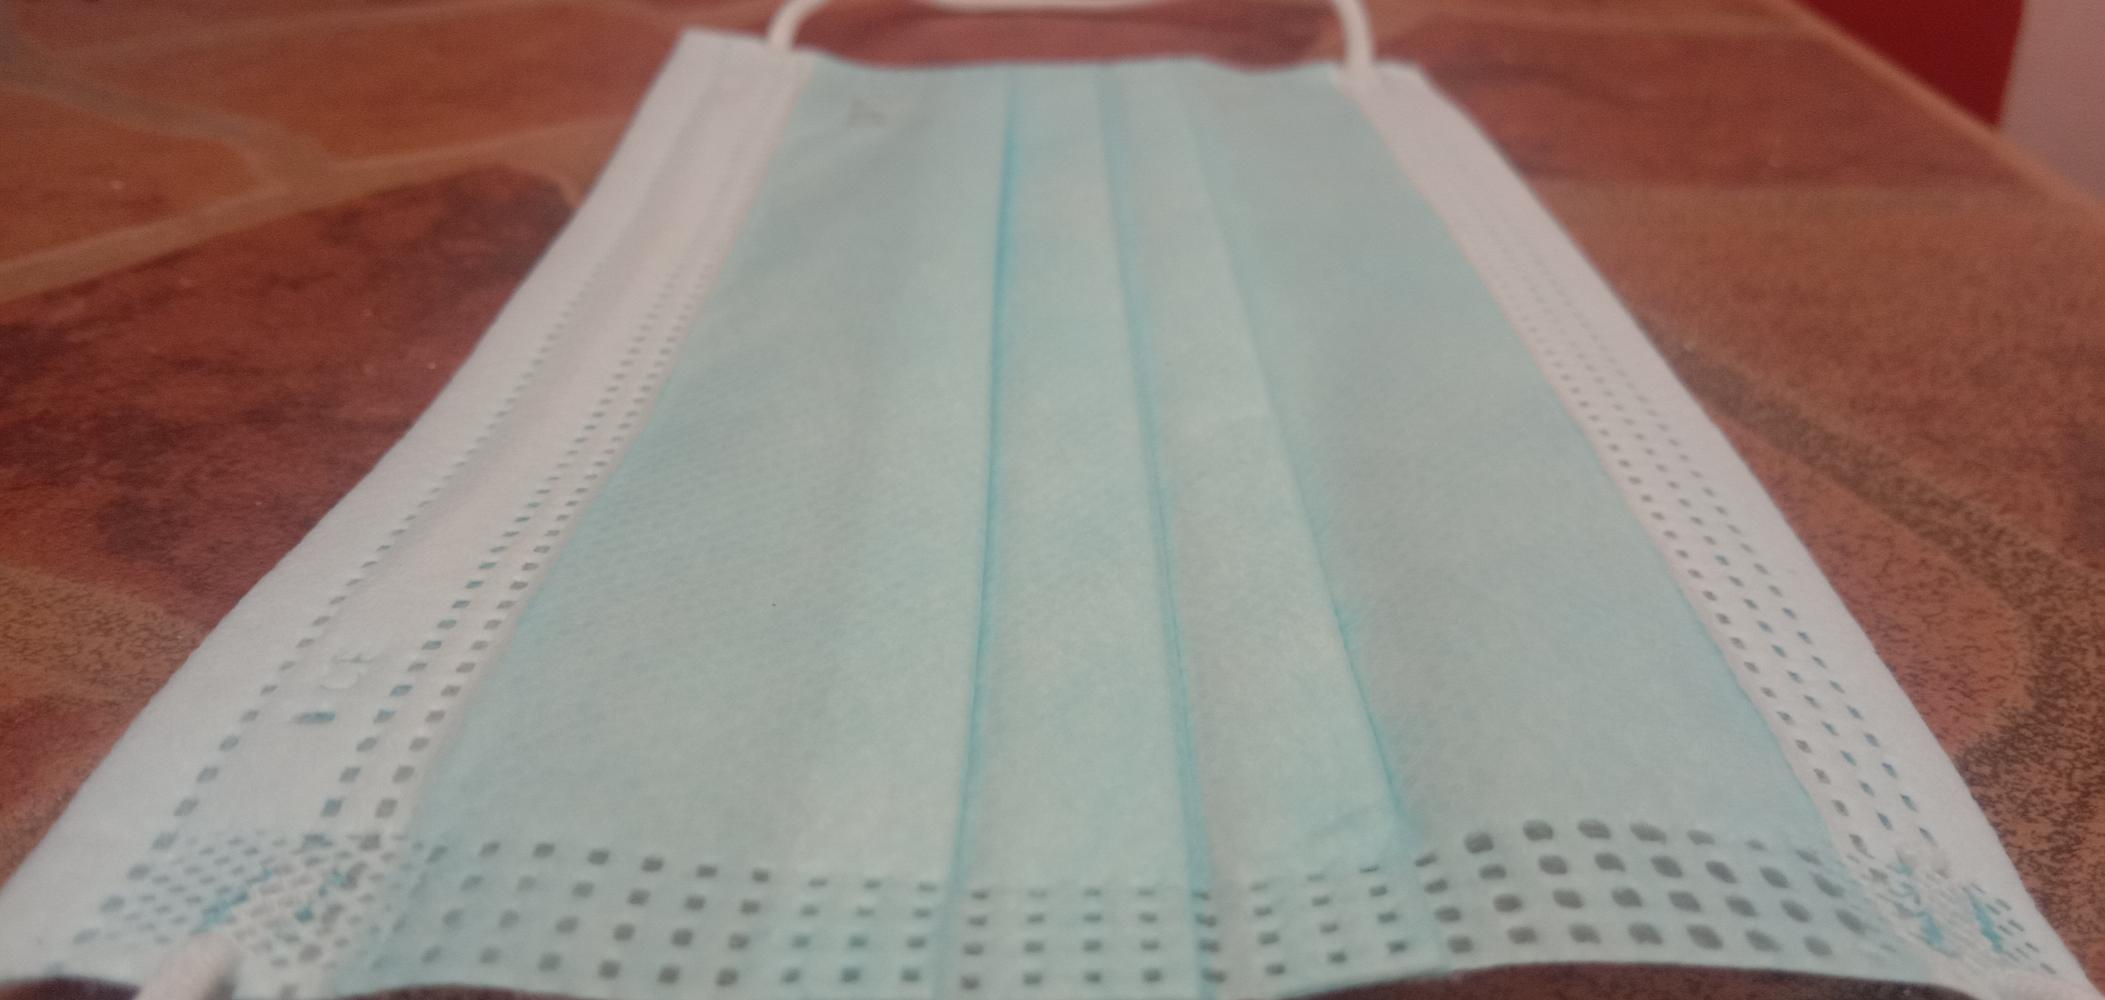Face Mask: (405, 8, 1778, 1000)
